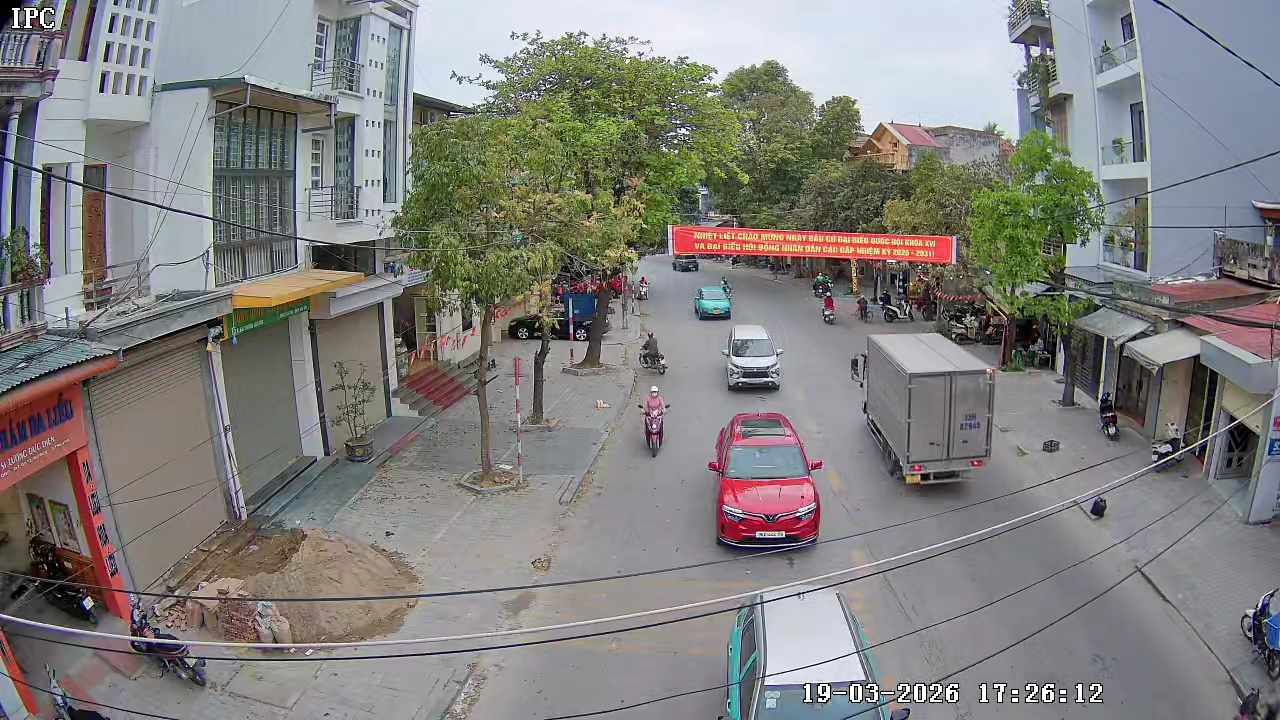car: (707, 410, 824, 551), (721, 323, 785, 392), (693, 284, 733, 321)
motorbike: (638, 385, 672, 458), (638, 329, 667, 375), (820, 294, 837, 325), (636, 272, 650, 301)
truck: (855, 332, 996, 486)
